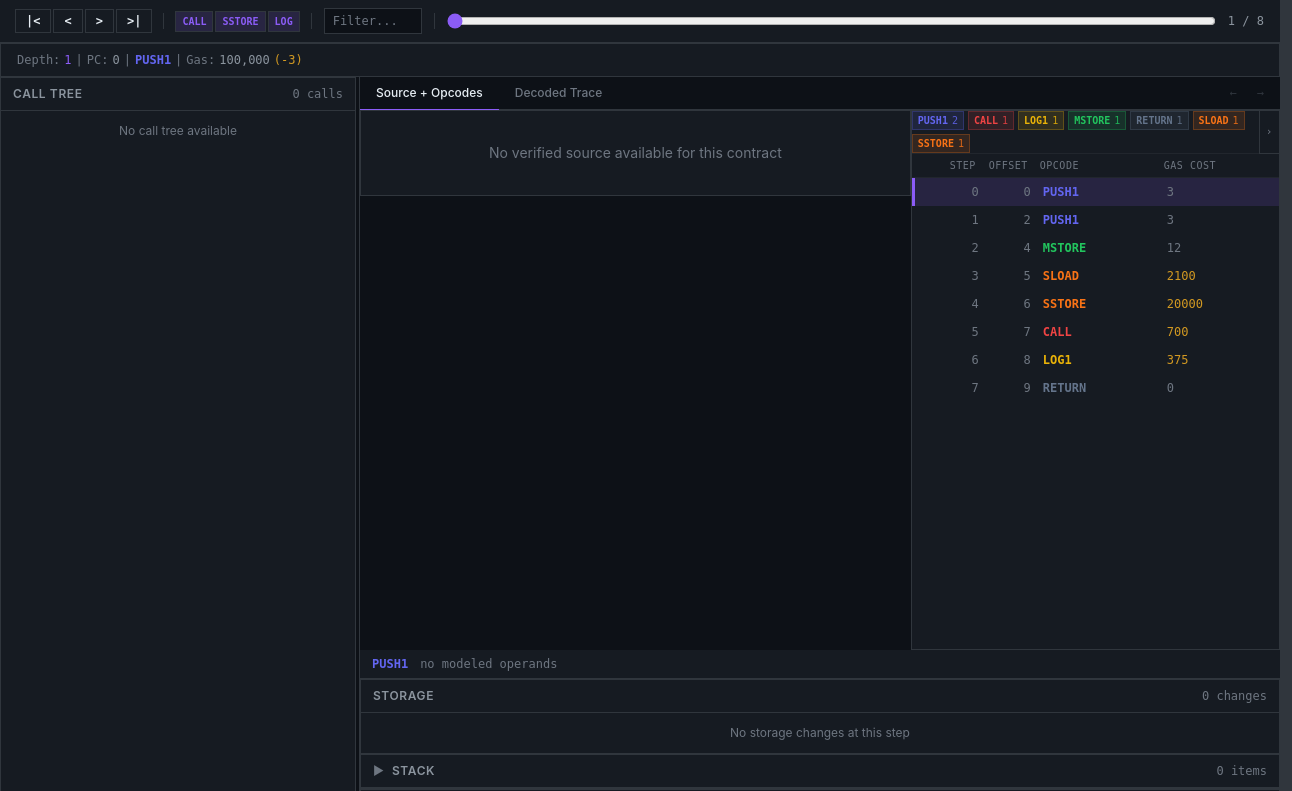
Test: StepDebugger › steps forward when clicking the > button
Click the button titled "Step forward (Right arrow / Space)".
click(99, 21)  # box x1=86 y1=10 x2=113 y2=32
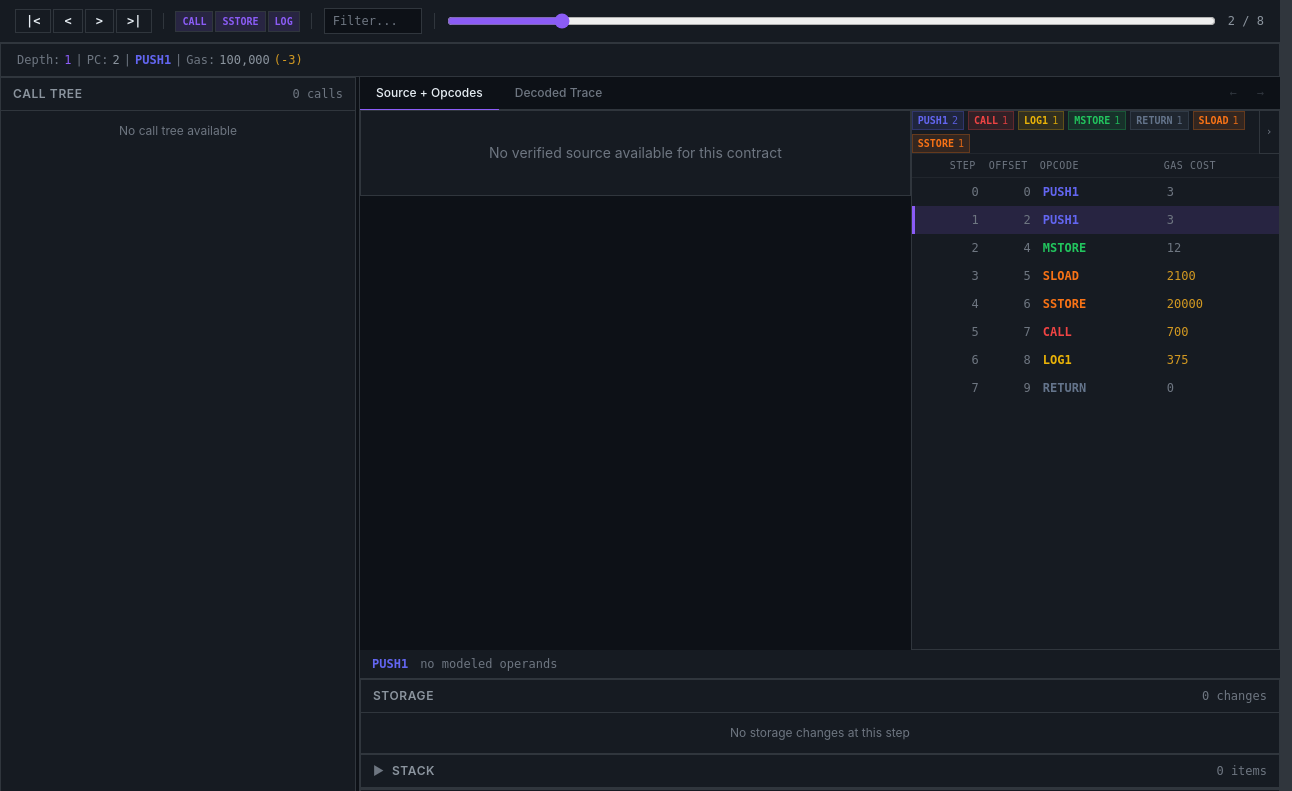
Result: the text "2 / 8" is shown at x1=1228 y1=13 x2=1264 y2=29
